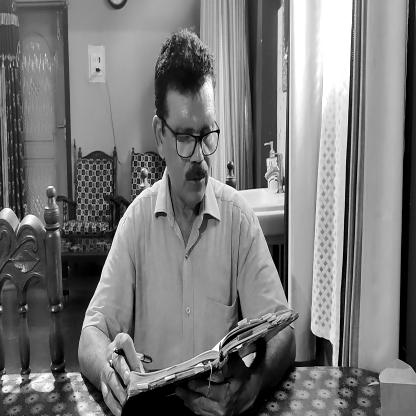Normal: (154, 36, 218, 218)
